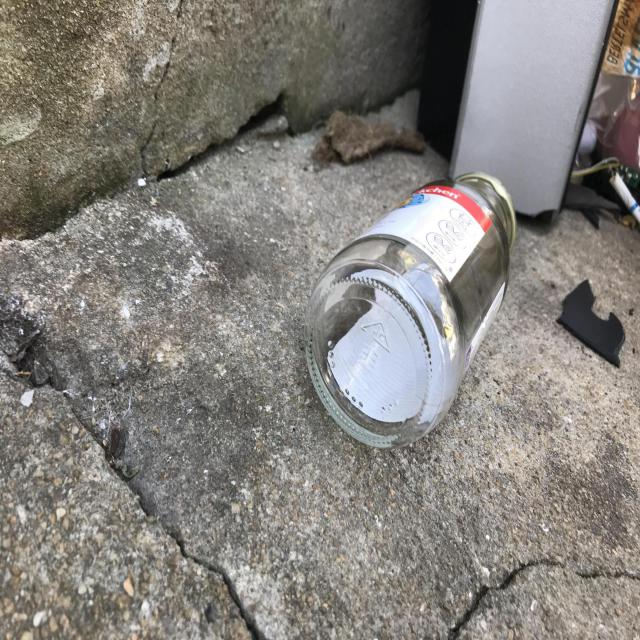glass: (305, 173, 516, 448)
